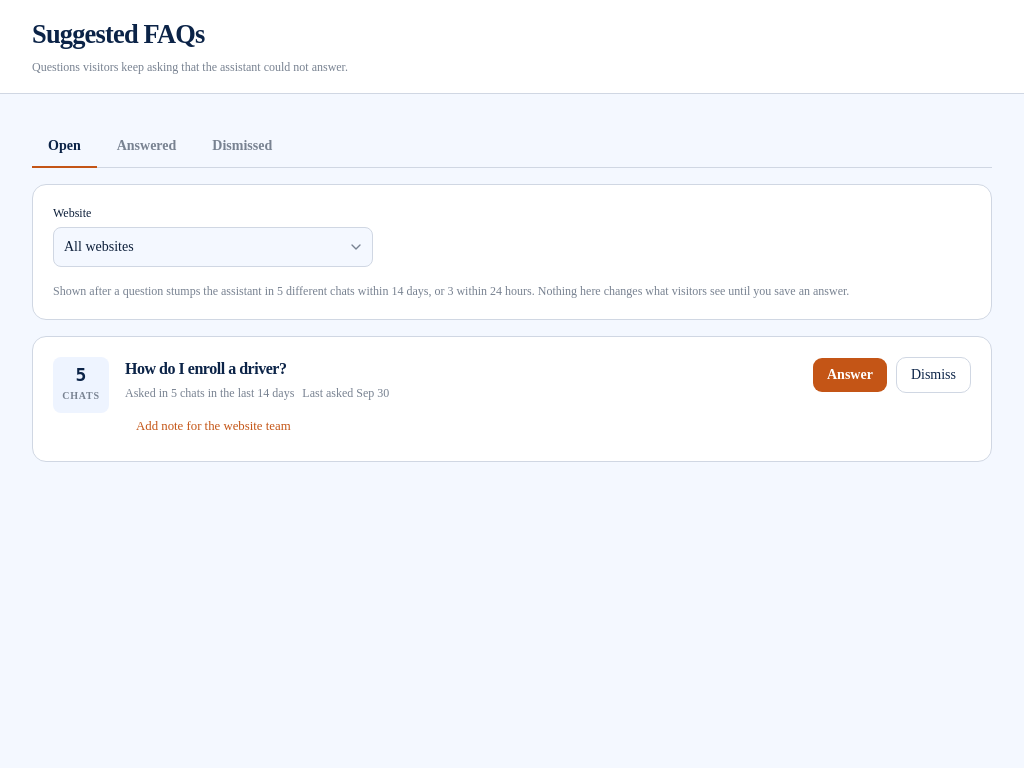
Scenario: suggested FAQs views › saves a note for the website team and shows it on the card
Step 1. Click the button "Add note for the website team" → (213, 427), box [125, 413, 302, 441]
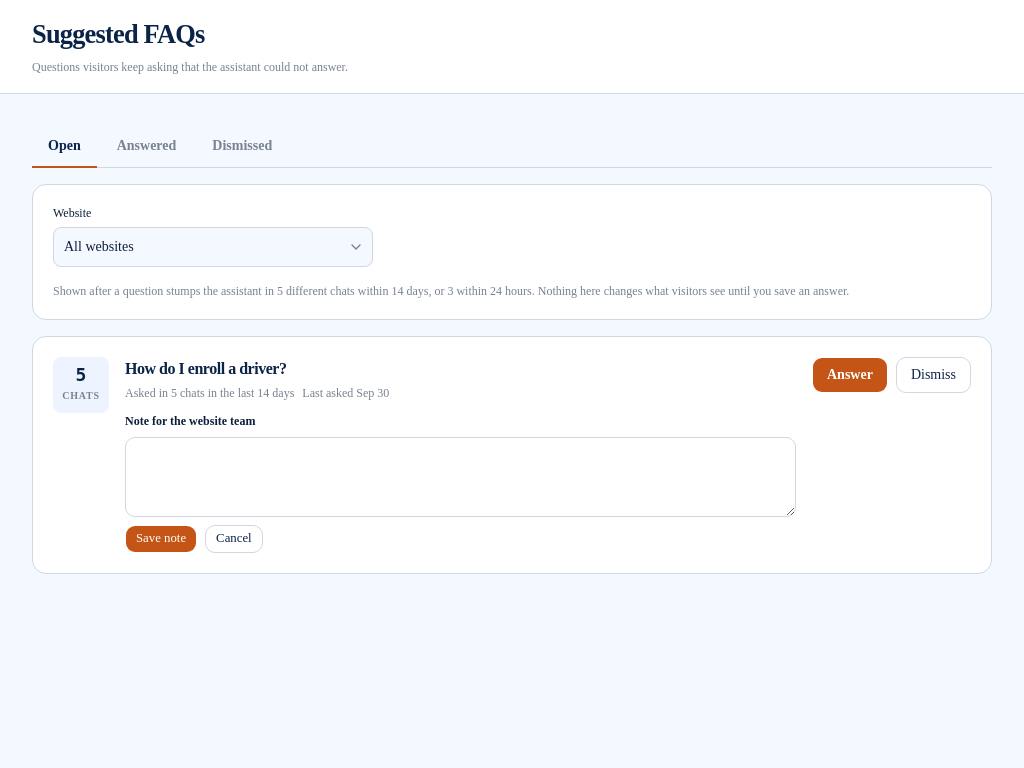
Step 2. Type "Needs a Get started page." into the text box labelled "Note for the website team" → (460, 477), box [125, 437, 796, 517]
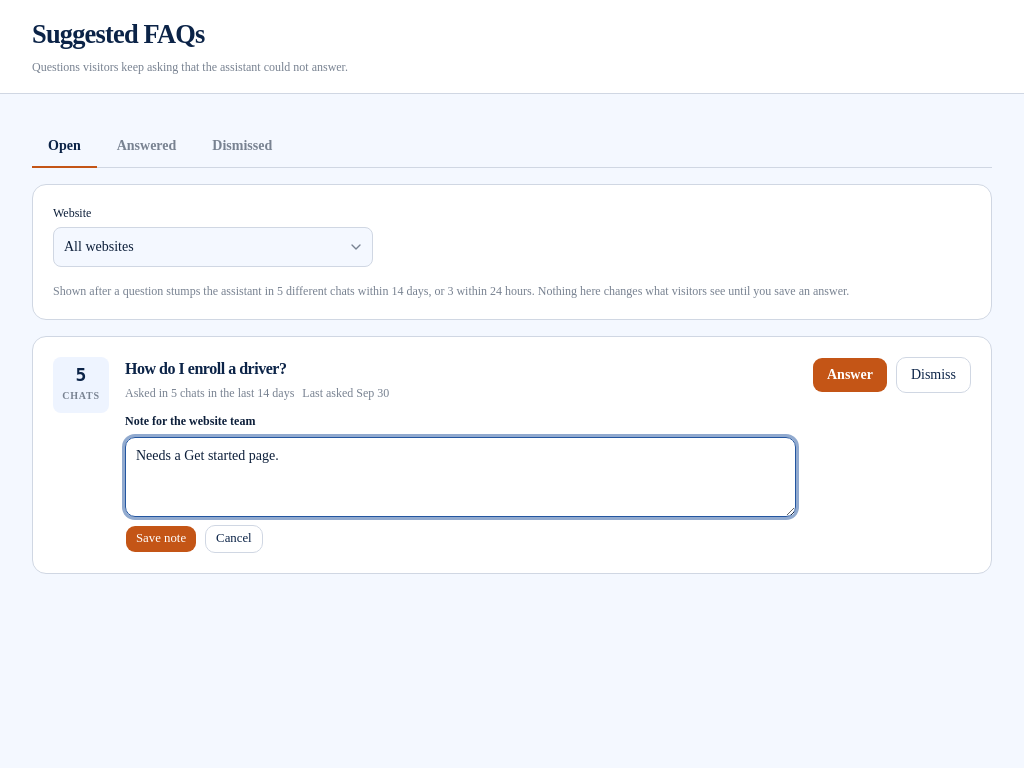
Step 3. Click the button "Save note" → (161, 539), box [125, 525, 197, 553]
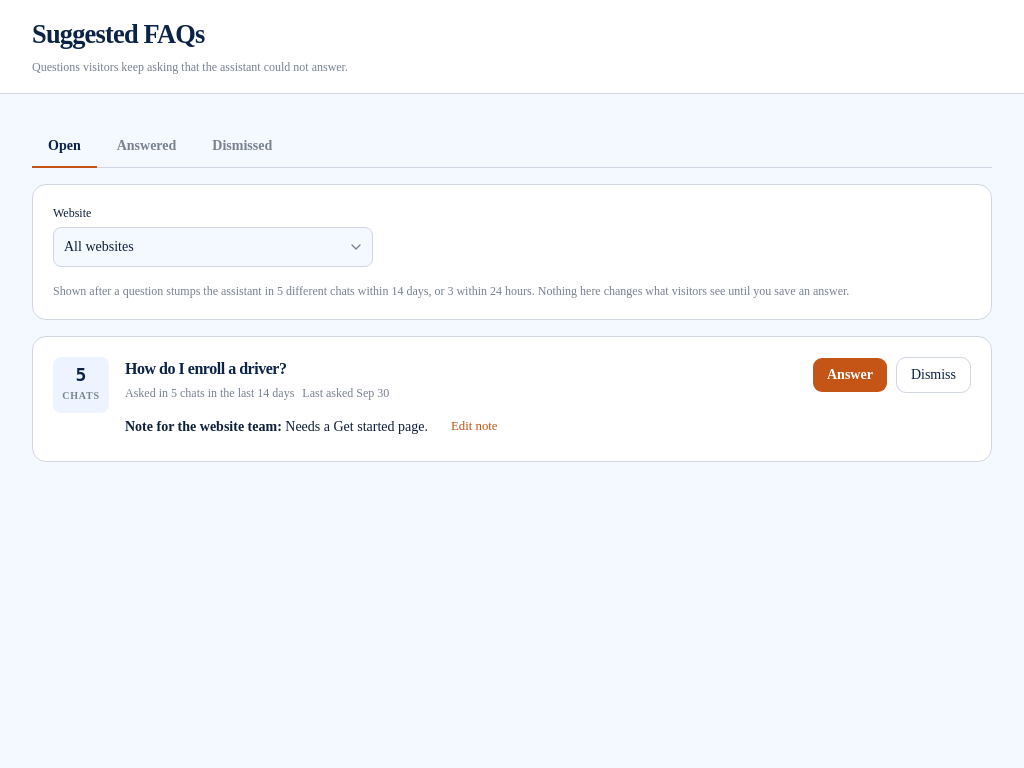
Result: the text "Needs a Get started page." is shown at [285, 419, 428, 434]
